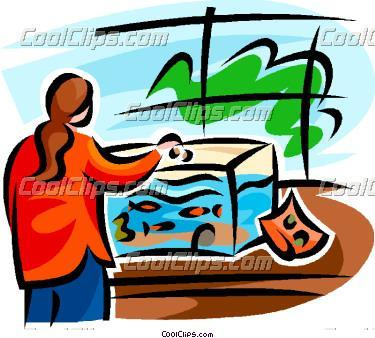person: (3, 69, 155, 324)
